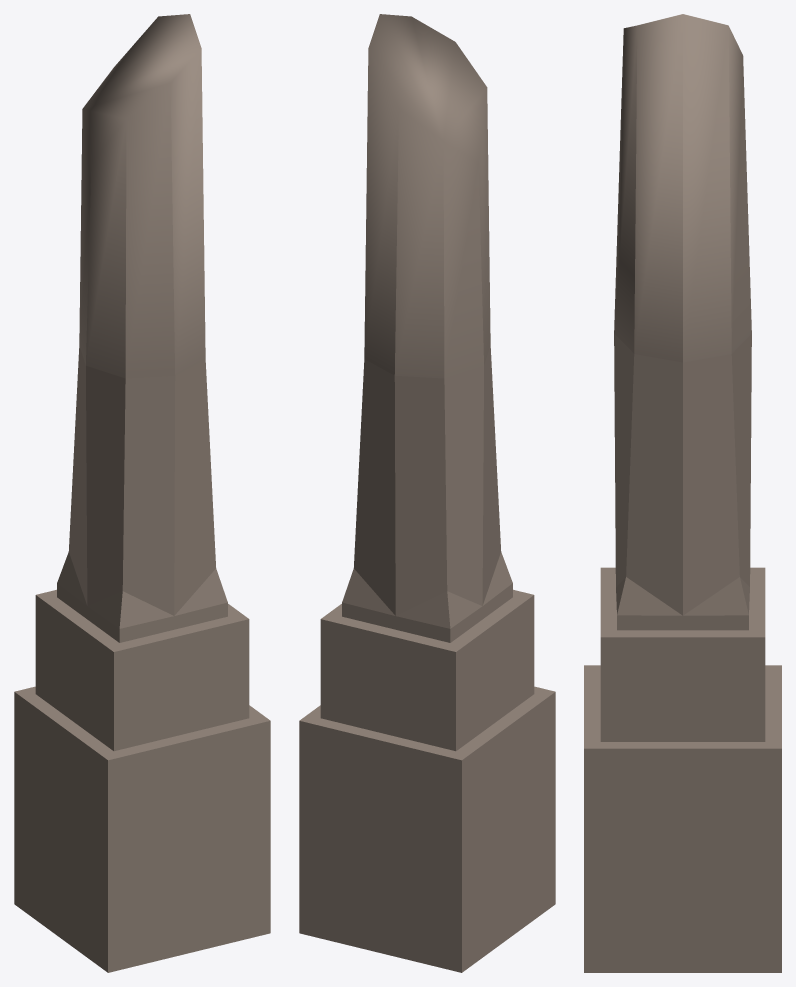
File: Column_03_Broken_01.fbx
3 views of the same model, side by side, from view 1: azimuth 30°, elevation 25°; view 2: azimuth 150°, elevation 25°; view 3: azimuth 270°, elevation 25° (orthographic). The views are drawn at different scales.
Visible parts, largest first — view 1: Cube.029; view 2: Cube.029; view 3: Cube.029.
Boxes of the visible parts, x1,y1,x2,y2 form: Cube.029: (14,14,270,972); Cube.029: (299,14,555,972); Cube.029: (584,14,781,972).
Bounding box in the file's own units: 120 × 630 × 120.
